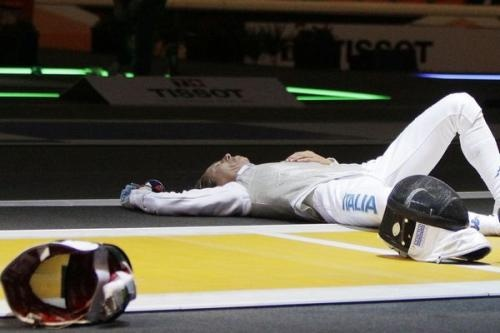falling: (113, 84, 494, 251)
